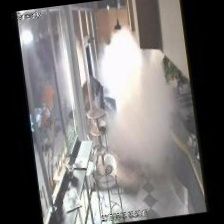smoke: (87, 16, 192, 193)
